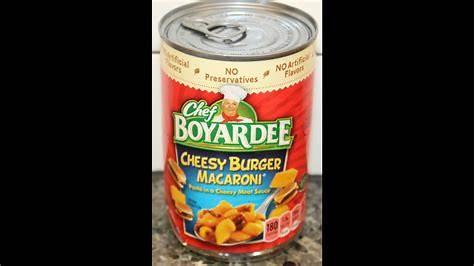metal: (159, 0, 318, 258)
